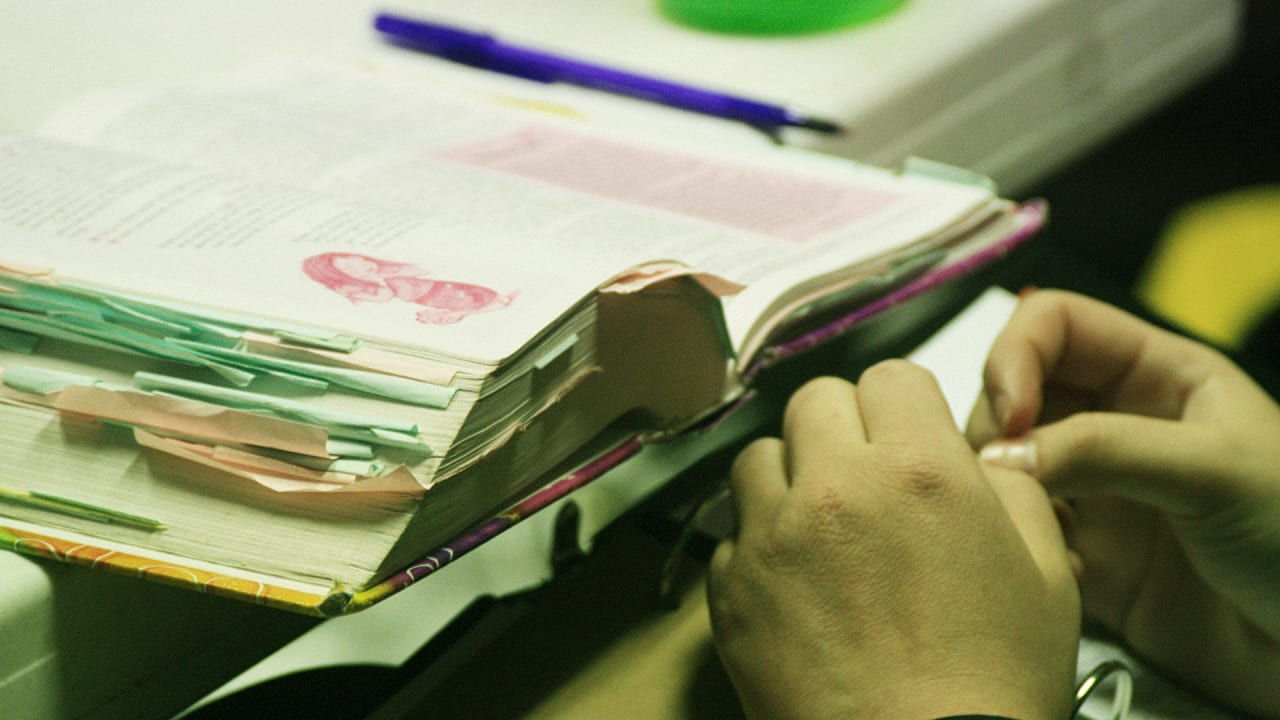Open Book: (1, 67, 1028, 576)
